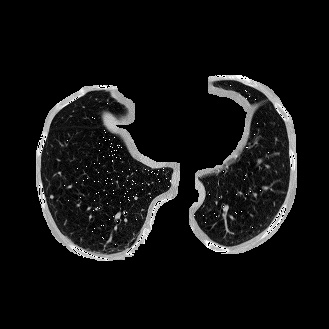PN: (49, 195, 53, 199)
